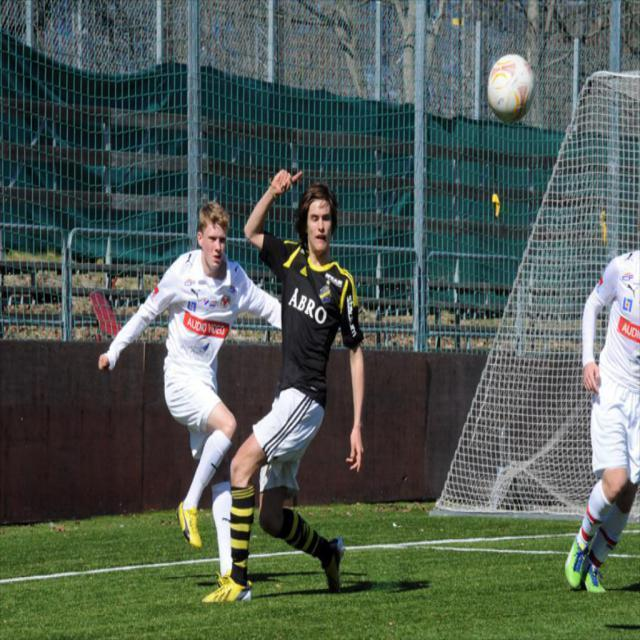ball: (487, 51, 538, 124)
